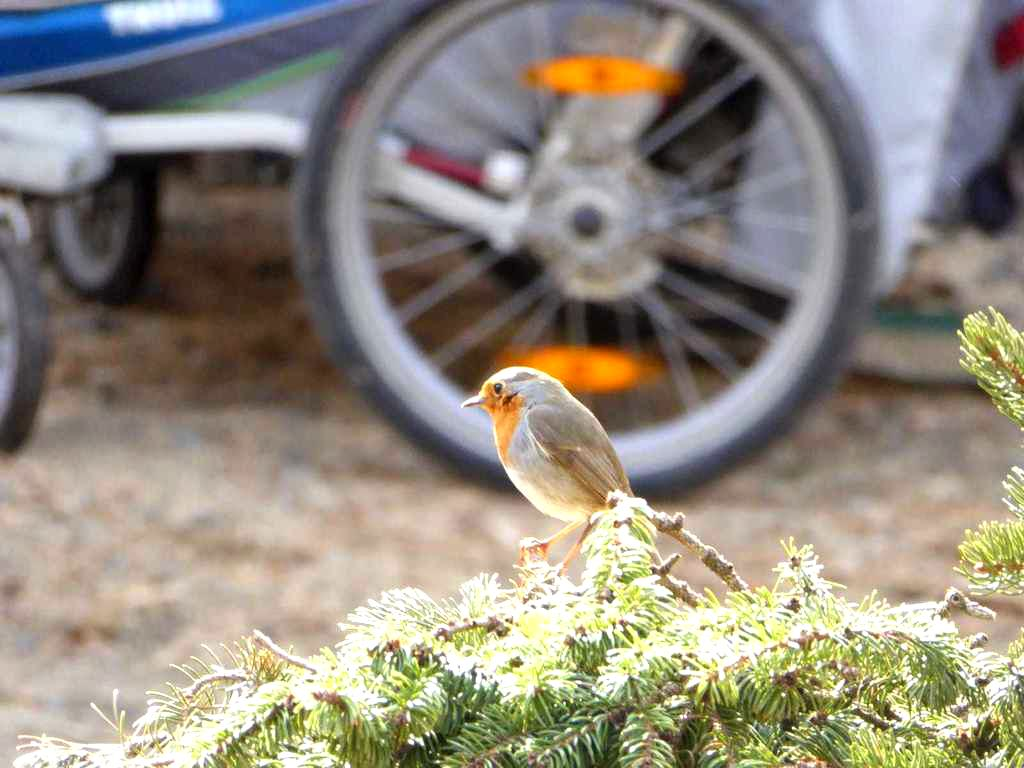ErithacusRubecula: (460, 366, 633, 573)
